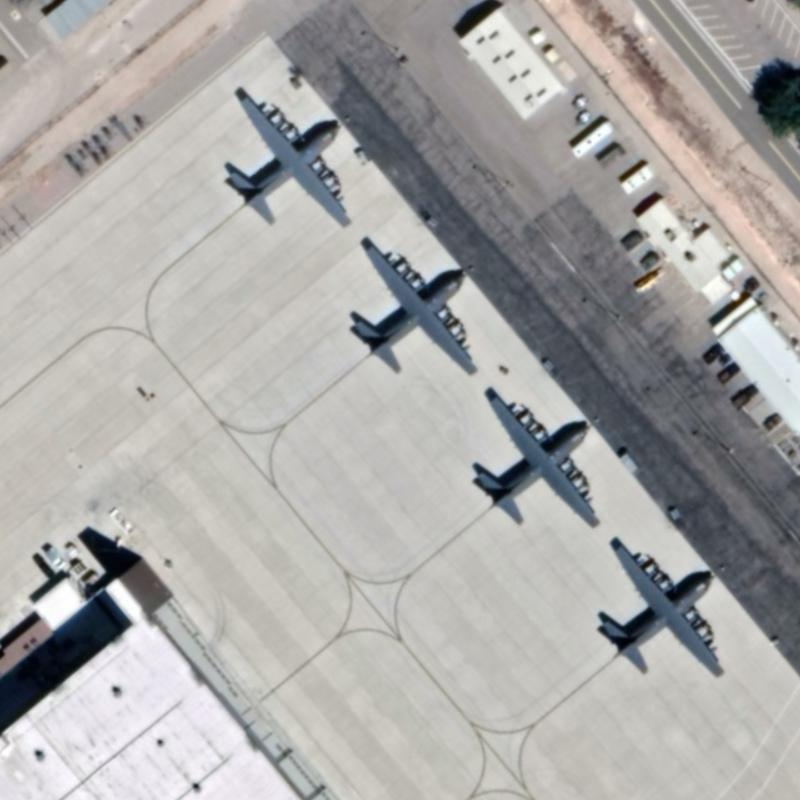A2: (588, 535, 733, 686), (462, 381, 606, 533), (216, 82, 359, 235), (341, 232, 484, 384)
